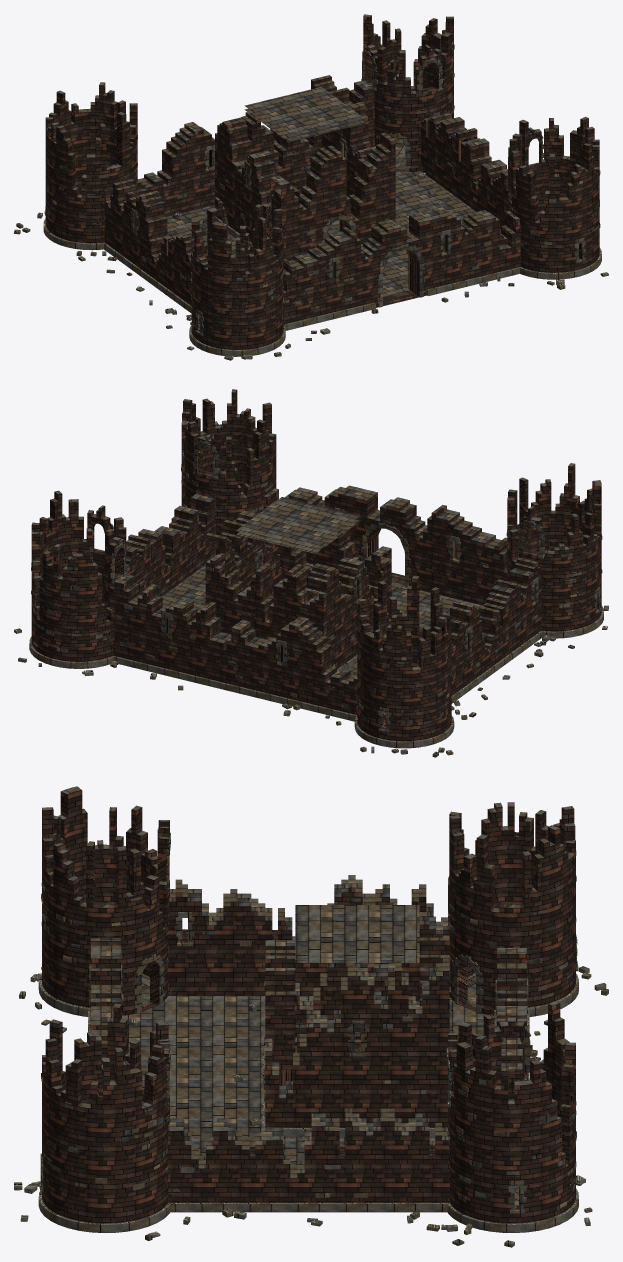
Rendered from dungeon_castle_ruin__v3.glb.
The picture shows the model from 3 angles, top to bottom: view 1: azimuth 30°, elevation 25°; view 2: azimuth 150°, elevation 25°; view 3: azimuth 270°, elevation 25°; orthographic projection. The views are drawn at different scales.
Visible parts, largest first — view 1: Procedural_Level_Castle; view 2: Procedural_Level_Castle; view 3: Procedural_Level_Castle.
Boxes of the visible parts, x1,y1,x2,y2 form: Procedural_Level_Castle: (14, 14, 608, 360); Procedural_Level_Castle: (14, 389, 608, 757); Procedural_Level_Castle: (14, 786, 608, 1247).
Bounding box in the file's own units: 35.53 × 10.4 × 29.73.
Materials: 2 (2 with a texture image).
